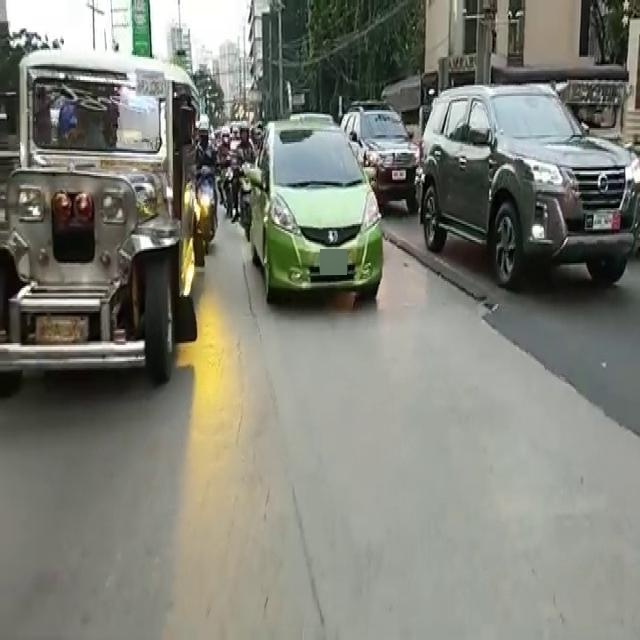car: (422, 82, 640, 274), (256, 127, 380, 309), (360, 97, 422, 200)
jeepney: (0, 76, 182, 400)
motorcycle: (224, 118, 256, 242), (193, 115, 219, 252)
